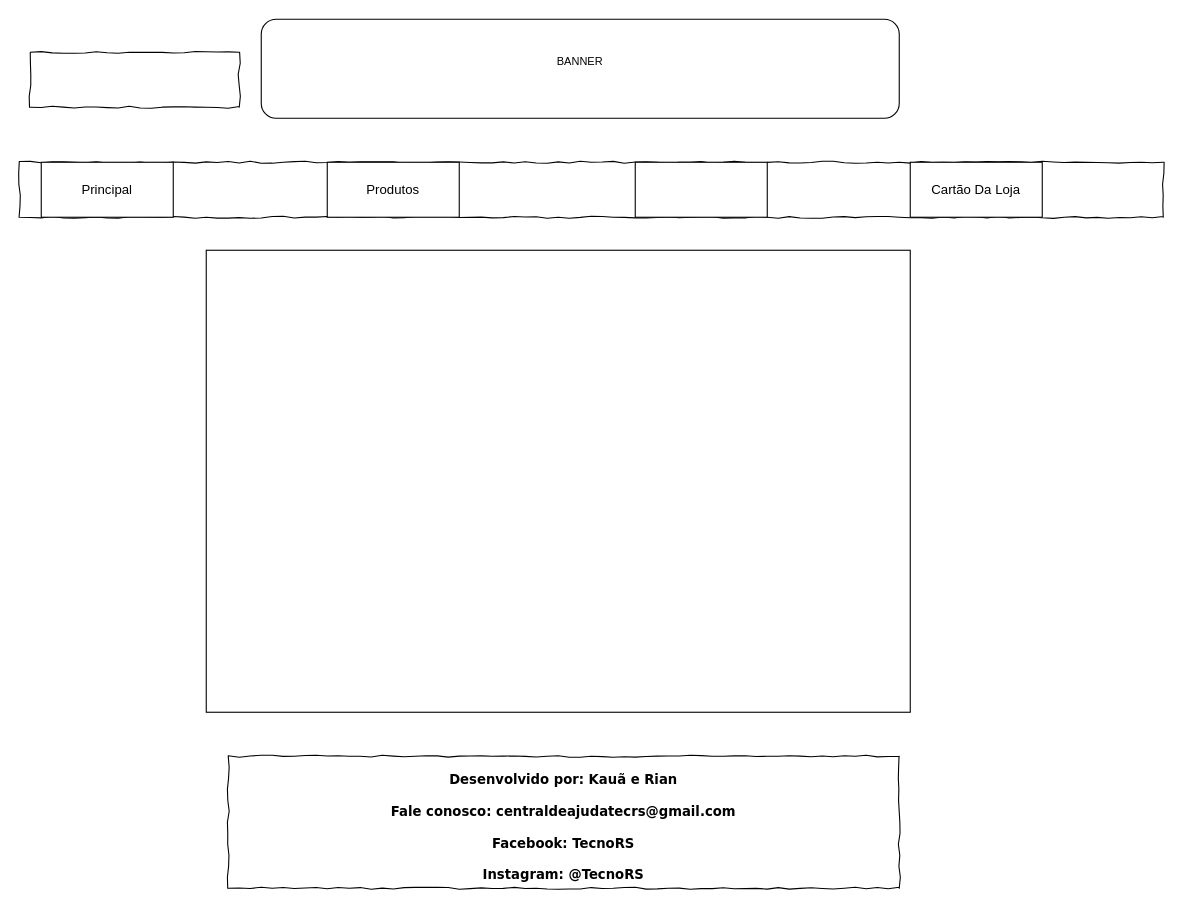
The diagram is 1183 pixels wide and 908 high, and some of its shapes have lost their labels. The shapes that lost their labels are listed below. From the top down, each one's box as (x1, y1, x2, y2) in pixels, then its label:
(29, 51, 239, 107): LOGO
(634, 161, 767, 217): Conheça-nos
